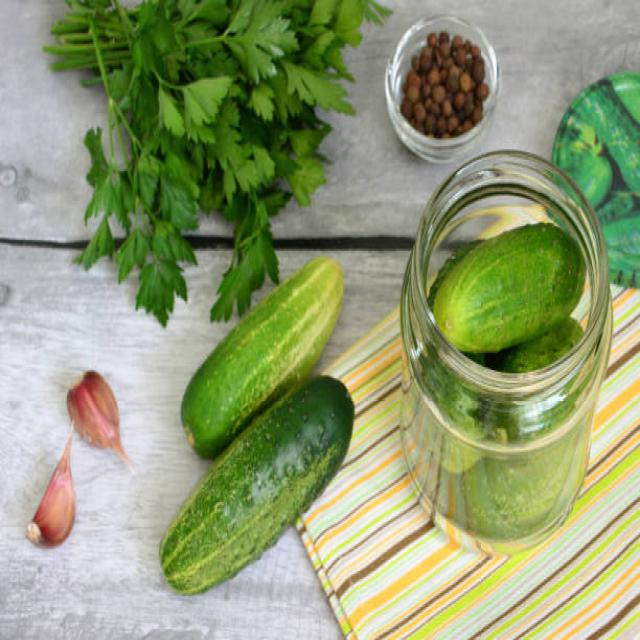cucumber: (160, 372, 356, 598), (180, 252, 347, 460), (431, 218, 588, 352)
